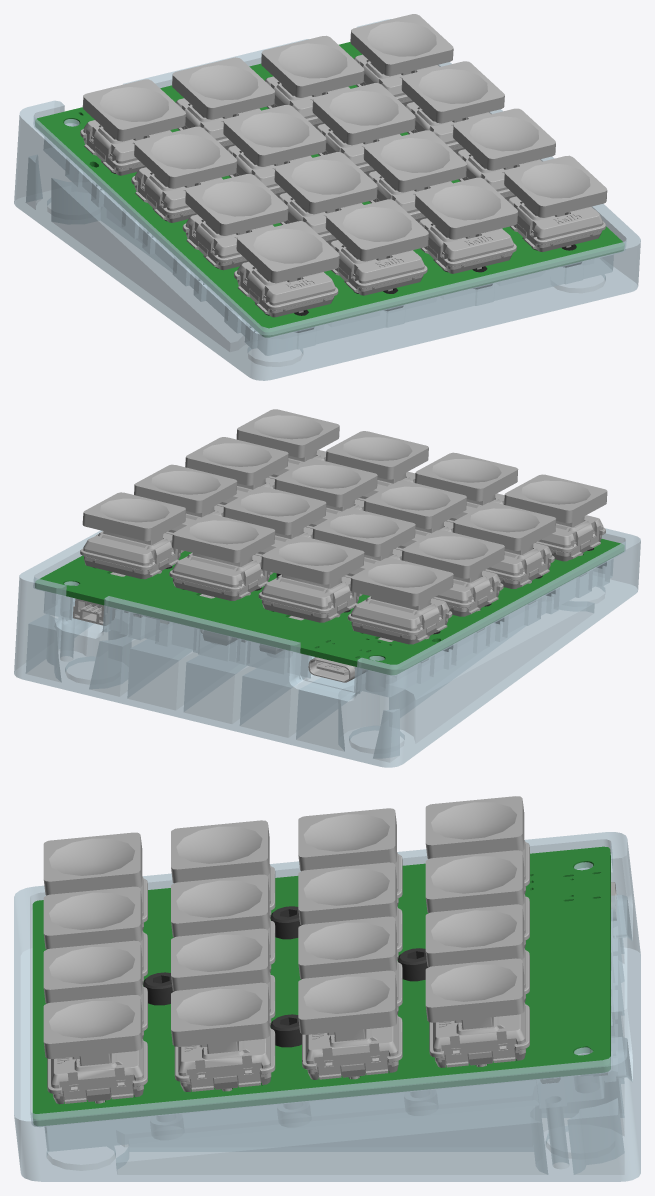
The model's file is mad-rp2040-case.glb.
The picture shows the model from 3 angles, top to bottom: view 1: azimuth 30°, elevation 25°; view 2: azimuth 150°, elevation 25°; view 3: azimuth 270°, elevation 25°; orthographic projection. The views are drawn at different scales.
Parts seen in each view (by area): view 1: board_pcb, case; view 2: board_pcb, case; view 3: board_pcb, case.
Part boxes in pixels (x1,y1,x2,y2): board_pcb: [35, 14, 624, 337]; case: [14, 19, 640, 380]; board_pcb: [35, 409, 624, 682]; case: [14, 528, 640, 767]; board_pcb: [32, 796, 616, 1125]; case: [14, 832, 640, 1181].
Bounding box in the file's own units: 82.6 × 27.47 × 93.3.
Materials: 2 (2 with a texture image).
